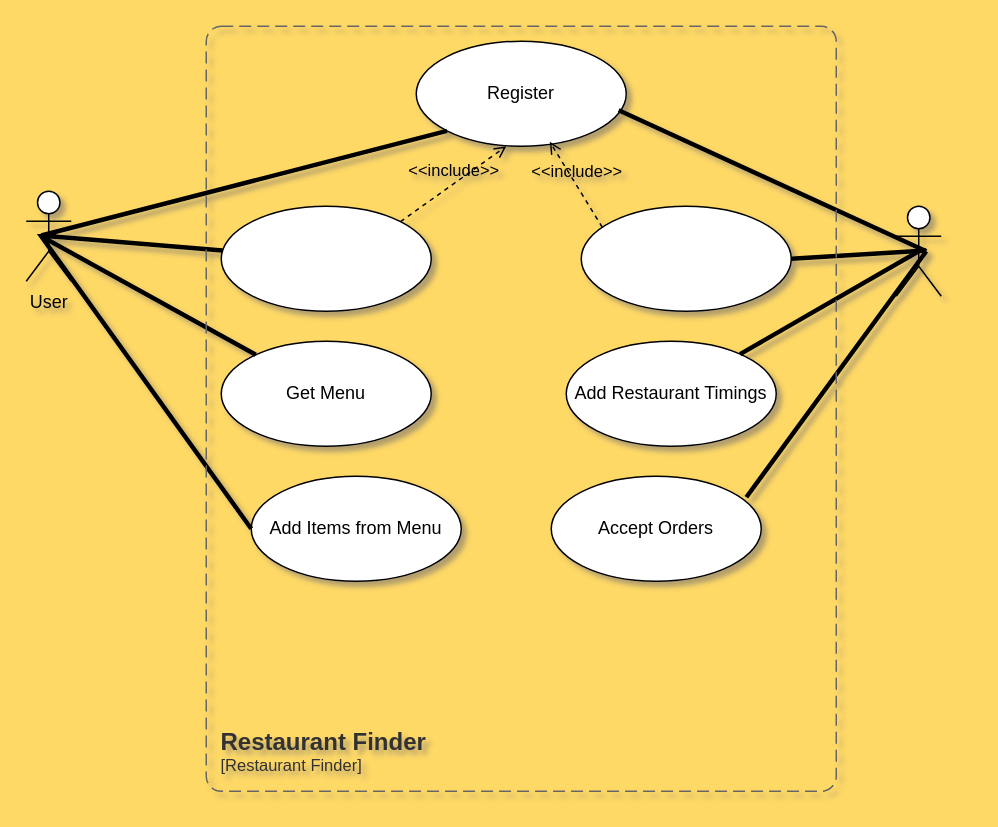
Image size: 998x827. Some labels were removed from this diagram. Here are the shapes that lost their labels. From the top down, the centre of each, then its label:
At point (325, 258): "Search".
At point (685, 258): "Add Restaurant Menu".
At point (918, 250): "Restaurant".
